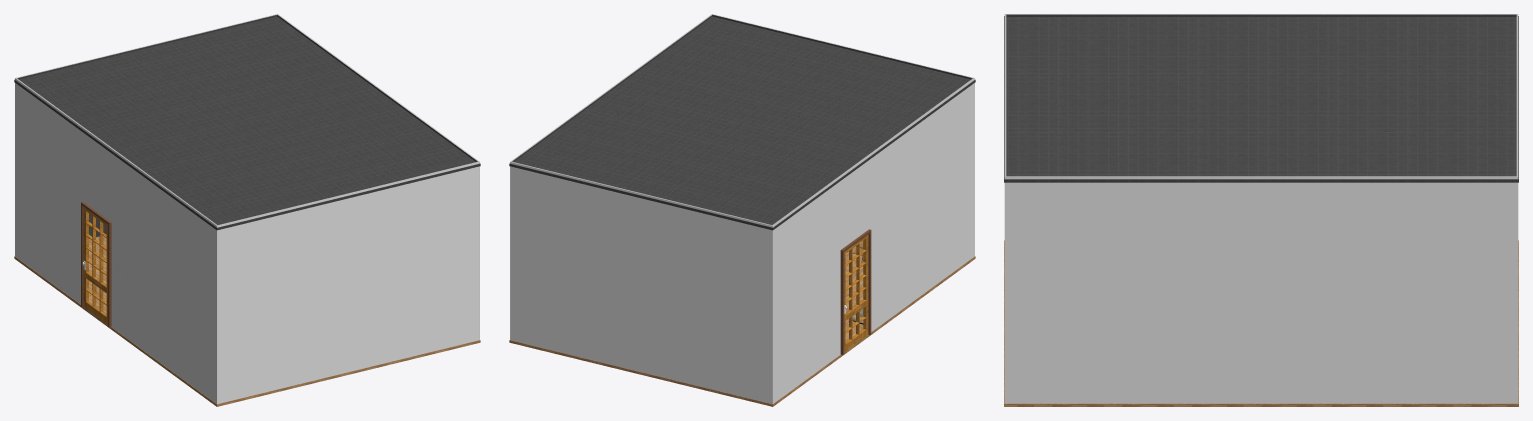
Rendered from ProcTHOR-Train-61.glb.
3 views of the same model, side by side, from view 1: azimuth 30°, elevation 25°; view 2: azimuth 150°, elevation 25°; view 3: azimuth 270°, elevation 25° (orthographic). The views are drawn at different scales.
Parts seen in each view (by area): view 1: Ceiling#room|2|c, WallInside#wall|exterior|0.00|7.33|5.50|7.33, WallInside#wall|exterior|5.50|0.00|5.50|7.33, Doorway_5, Floor#room|2|f, WallInside#wall|2|0.00|0.00|5.50|0.00, WallInside#wall|2|0.00|0.00|0.00|7.33, WallInside#wall|exterior|0.00|0.00|0.00|7.33; view 2: Ceiling#room|2|c, WallInside#wall|exterior|0.00|0.00|5.50|0.00, WallInside#wall|exterior|5.50|0.00|5.50|7.33, Doorway_5, Floor#room|2|f, WallInside#wall|2|0.00|7.33|5.50|7.33, WallInside#wall|2|0.00|0.00|0.00|7.33, WallInside#wall|exterior|0.00|0.00|0.00|7.33; view 3: WallInside#wall|exterior|0.00|0.00|0.00|7.33, Ceiling#room|2|c, Floor#room|2|f, WallInside#wall|2|5.50|0.00|5.50|7.33, WallInside#wall|2|0.00|0.00|0.00|7.33, WallInside#wall|exterior|5.50|0.00|5.50|7.33.
Boxes of the visible parts, x1,y1,x2,y2 form: Ceiling#room|2|c: [14, 16, 480, 230]; WallInside#wall|exterior|0.00|7.33|5.50|7.33: [217, 162, 479, 403]; WallInside#wall|exterior|5.50|0.00|5.50|7.33: [15, 78, 217, 403]; Doorway_5: [81, 202, 111, 327]; Floor#room|2|f: [14, 236, 480, 406]; WallInside#wall|2|0.00|0.00|5.50|0.00: [16, 14, 277, 238]; WallInside#wall|2|0.00|0.00|0.00|7.33: [277, 14, 478, 161]; WallInside#wall|exterior|0.00|0.00|0.00|7.33: [278, 14, 479, 339]; Ceiling#room|2|c: [509, 16, 975, 230]; WallInside#wall|exterior|0.00|0.00|5.50|0.00: [510, 161, 772, 403]; WallInside#wall|exterior|5.50|0.00|5.50|7.33: [772, 78, 974, 403]; Doorway_5: [840, 229, 871, 354]; Floor#room|2|f: [509, 241, 975, 406]; WallInside#wall|2|0.00|7.33|5.50|7.33: [712, 14, 972, 79]; WallInside#wall|2|0.00|0.00|0.00|7.33: [511, 14, 712, 161]; WallInside#wall|exterior|0.00|0.00|0.00|7.33: [510, 14, 712, 339]; WallInside#wall|exterior|0.00|0.00|0.00|7.33: [1004, 176, 1518, 403]; Ceiling#room|2|c: [1004, 16, 1518, 182]; Floor#room|2|f: [1004, 240, 1518, 406]; WallInside#wall|2|5.50|0.00|5.50|7.33: [1005, 14, 1517, 16]; WallInside#wall|2|0.00|0.00|0.00|7.33: [1005, 176, 1517, 176]; WallInside#wall|exterior|5.50|0.00|5.50|7.33: [1005, 14, 1516, 14].
Size of what is drawn, in the model's own units: 5.6 by 3.63 by 7.37.
Materials: 111 (51 with a texture image).
